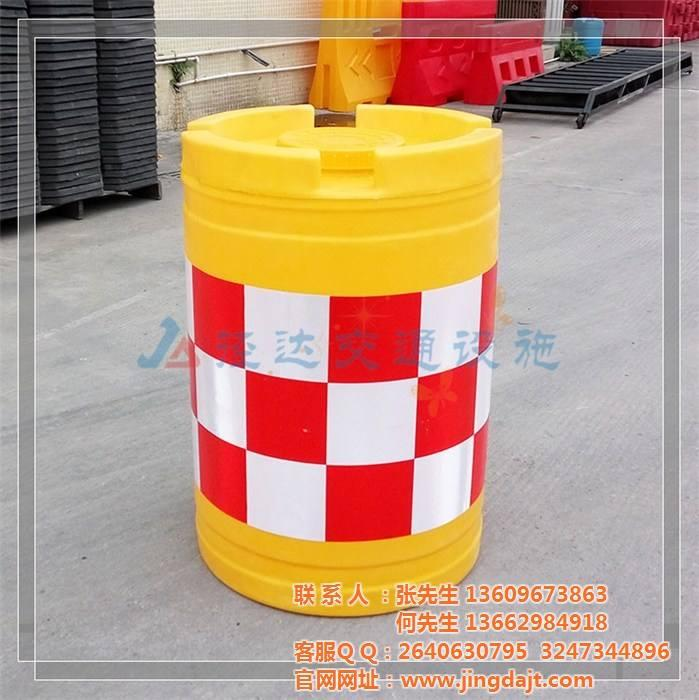sign: (165, 99, 522, 619)
